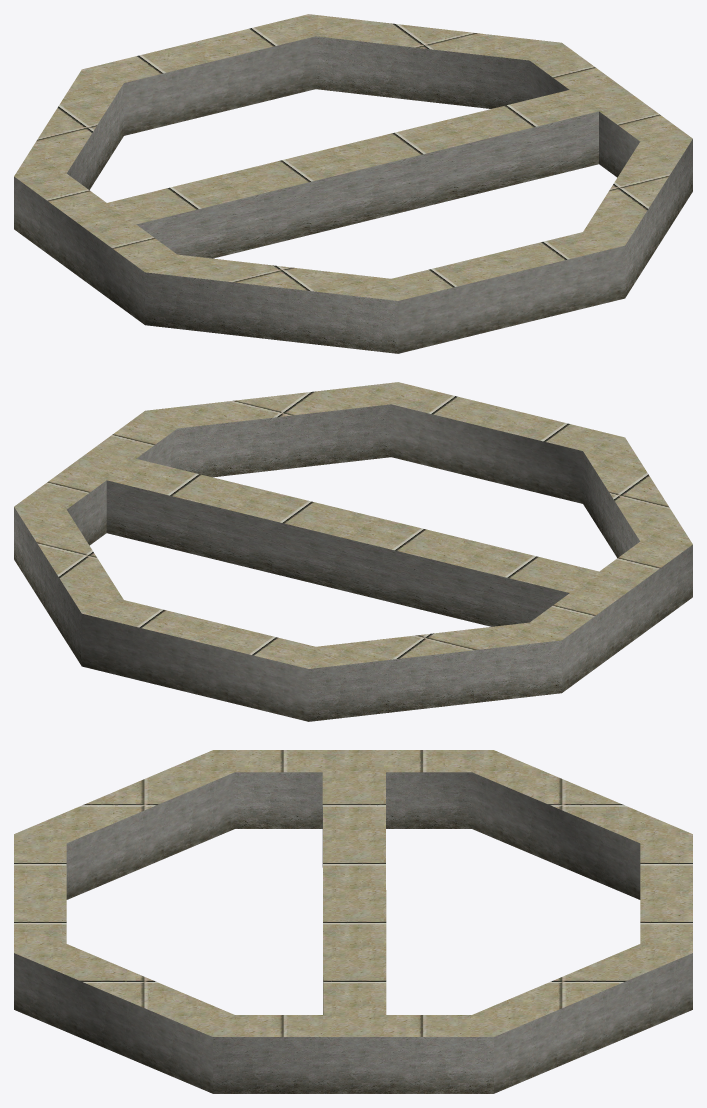
Rendered from WP_TOP_I.fbx.
3 views of the same model, one above another, from view 1: azimuth 30°, elevation 25°; view 2: azimuth 150°, elevation 25°; view 3: azimuth 270°, elevation 25° (orthographic). The views are drawn at different scales.
Parts seen in each view (by area): view 1: WP_TOP_I; view 2: WP_TOP_I; view 3: WP_TOP_I.
Boxes of the visible parts, x1=… form: WP_TOP_I: x1=14, y1=14, x2=692, y2=353; WP_TOP_I: x1=14, y1=382, x2=692, y2=721; WP_TOP_I: x1=14, y1=750, x2=692, y2=1093.
Bounding box in the file's own units: 10848 × 1000 × 10847.
Materials: 2 (2 with a texture image).
